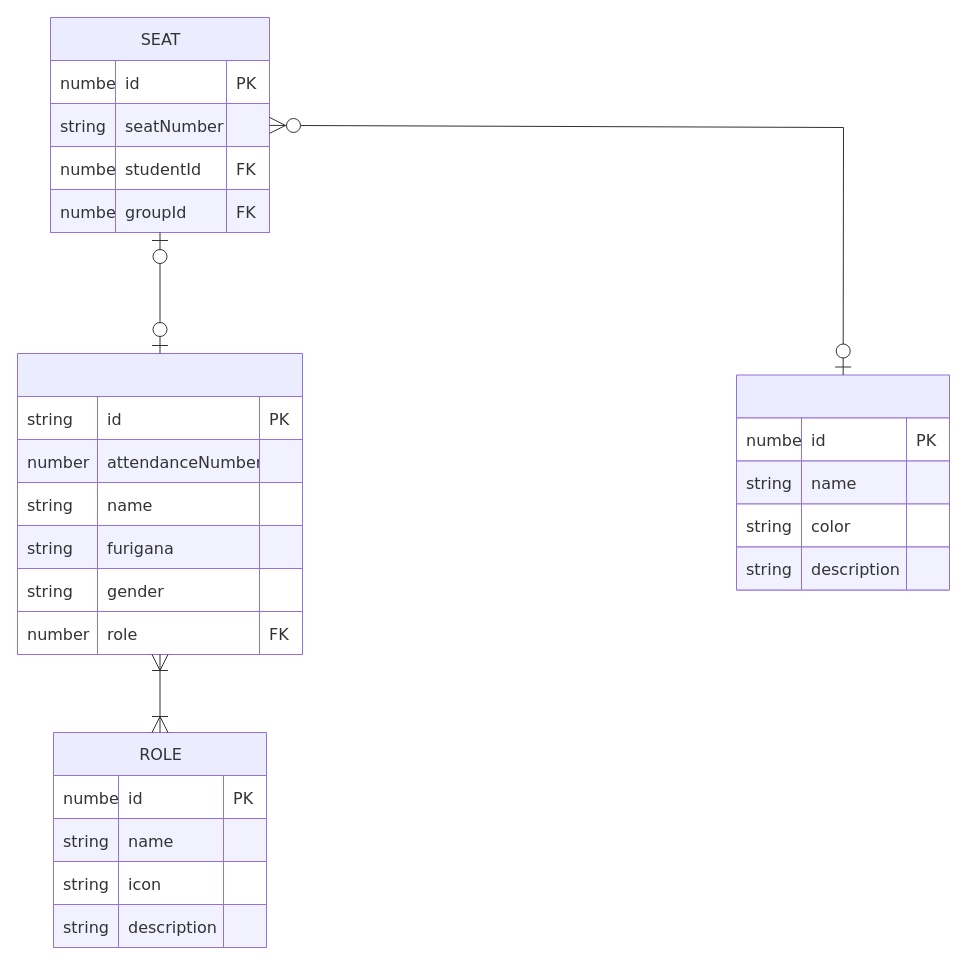
Image size: 967x965. Some labels were removed from this diagram. The shapes that lost their labels are listed below. From the top down, each one's box as (x1, y1, x2, y2) in pixels, then its label:
(736, 374, 950, 590): GROUP
(16, 352, 302, 654): STUDENT
